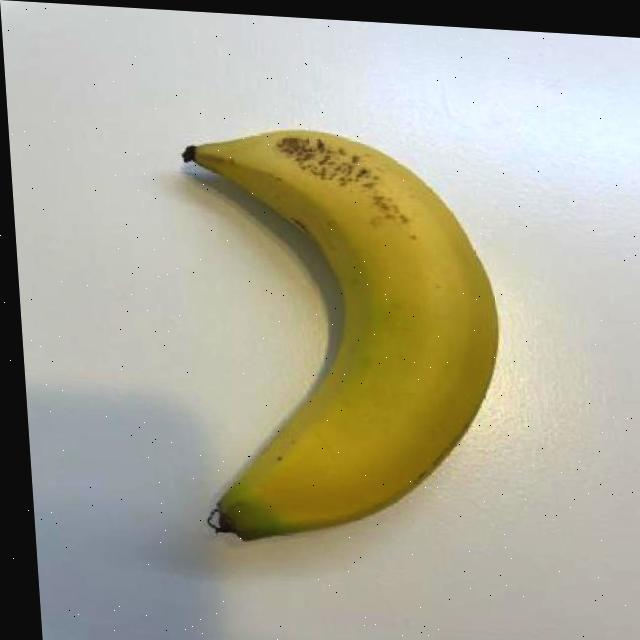banana: (167, 115, 518, 560)
